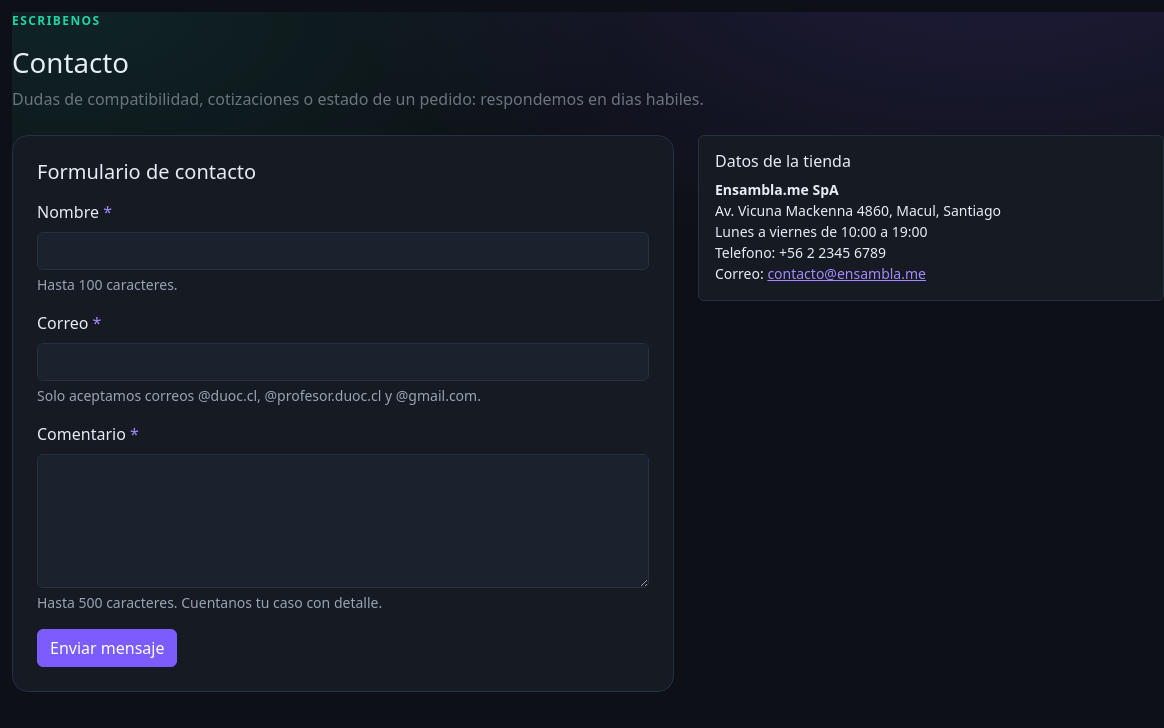
Test: Contacto › un envio correcto confirma con el nombre y limpia el formulario
Type "Ana Perez" into the field labelled "Nombre *" at (343, 251), box 37,232 -> 649,270
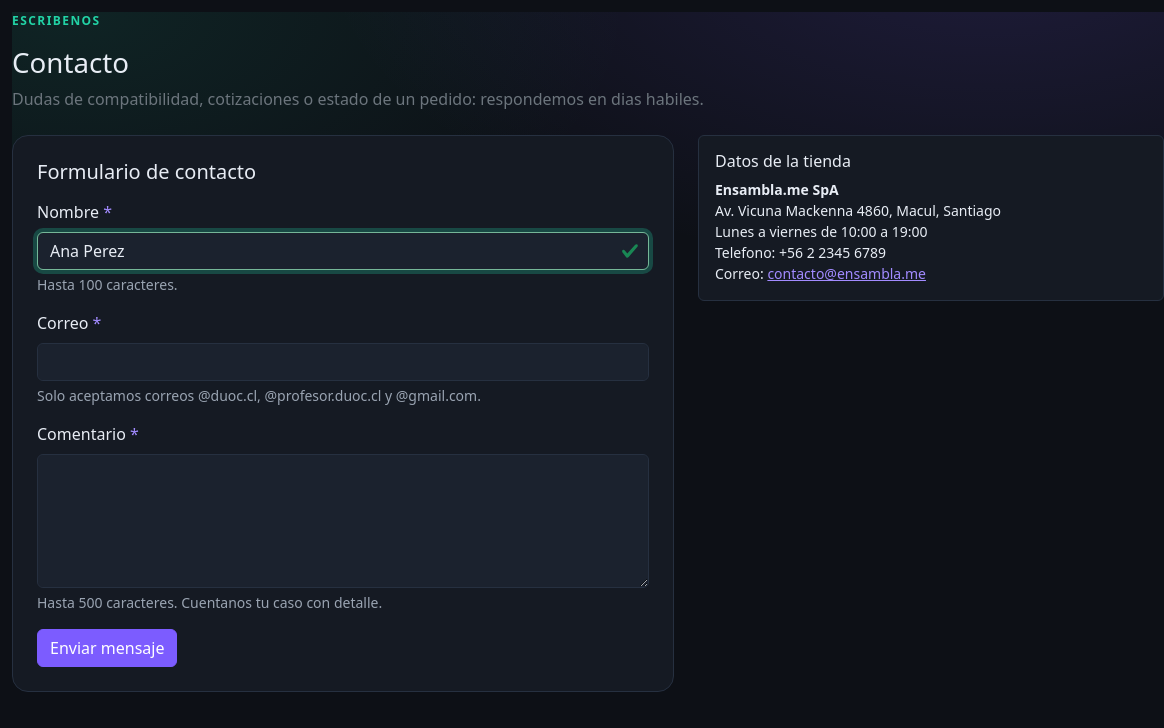
Type "ANA@gmail.com" into the field labelled "Correo *" at (343, 362), box 37,343 -> 649,381
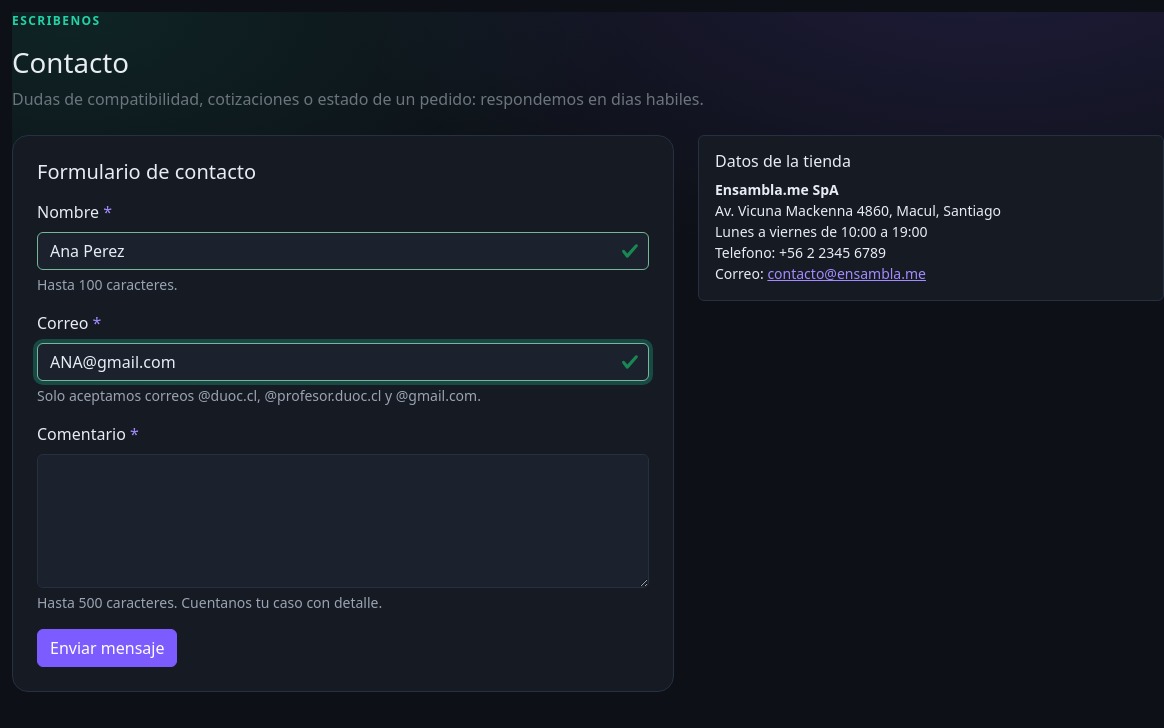
Type "Hola, tengo una duda." into the text box labelled "Comentario *" at (343, 521), box 37,454 -> 649,588
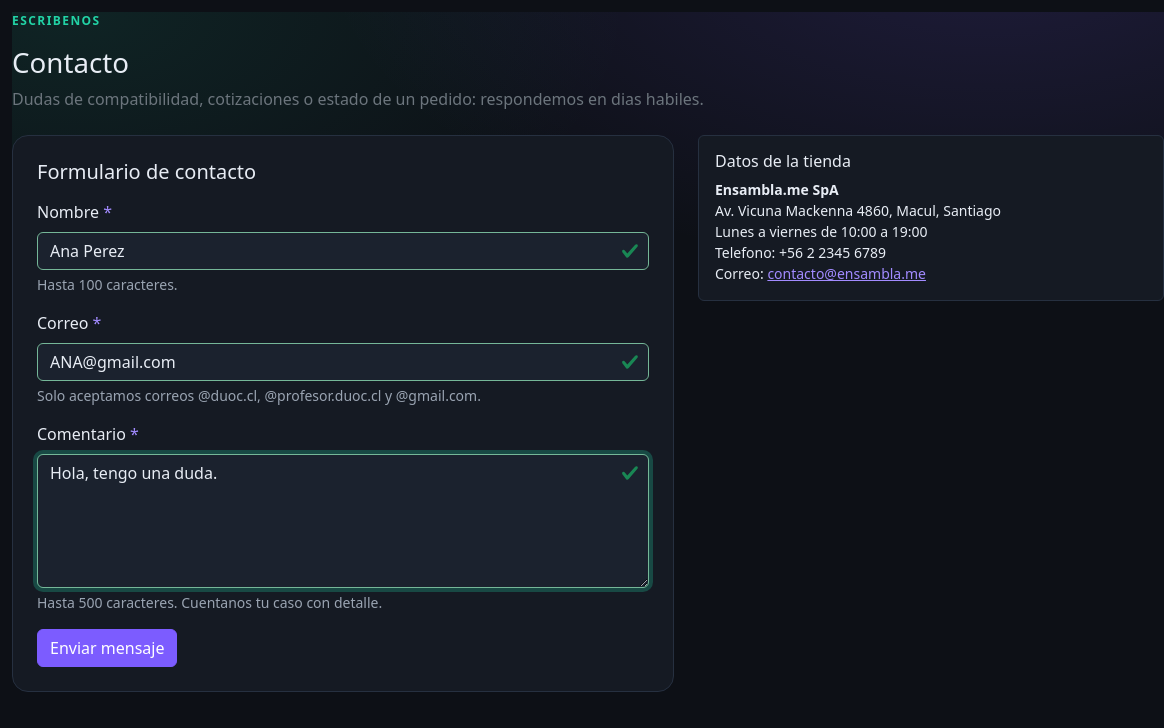
Click the button "Enviar mensaje" at (107, 648), box 37,629 -> 178,667
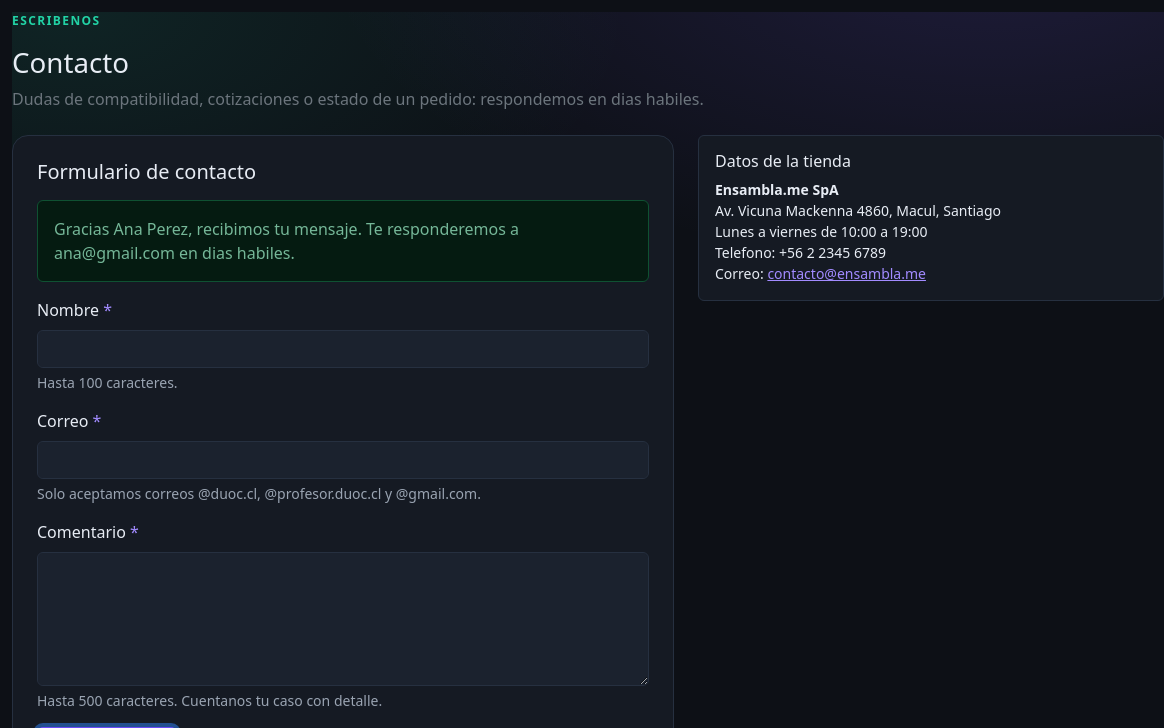
Expected: the message shows "Gracias Ana Perez, recibimos tu mensaje. Te responderemos a ana@gmail.com", 54,218 -> 519,264
Expected: the field labelled "Nombre *" is empty, 37,330 -> 649,368
Expected: the text box labelled "Comentario *" is empty, 37,552 -> 649,686
